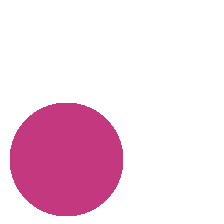circle: (10, 103, 122, 215)
